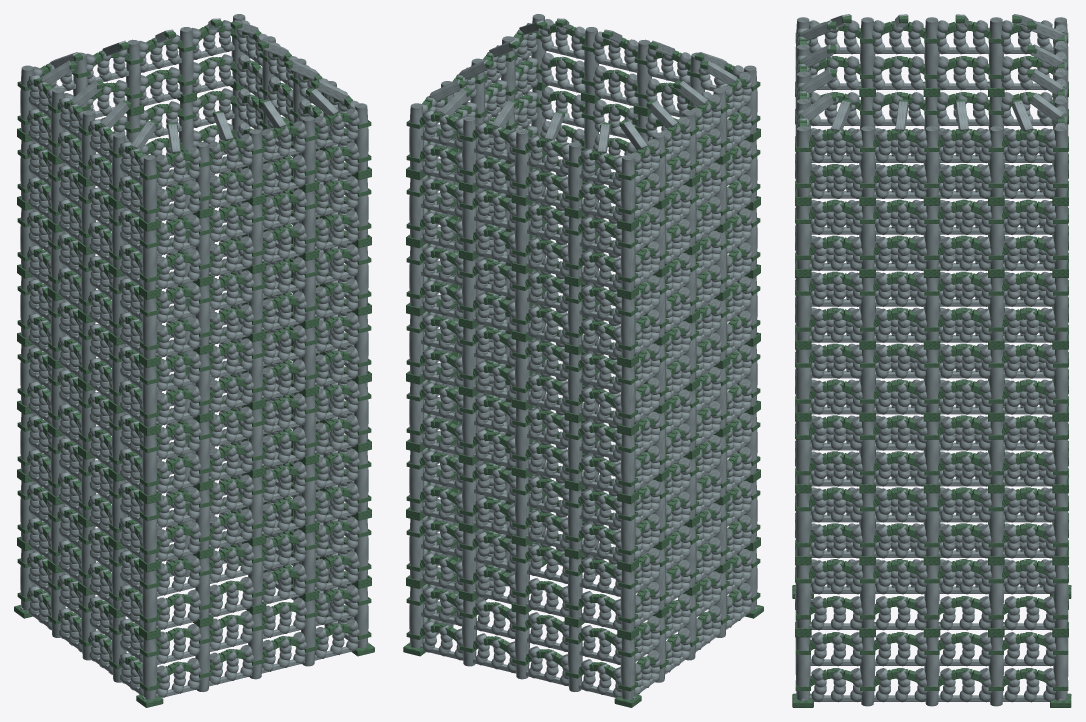
The picture shows the model from 3 angles, left to right: view 1: azimuth 30°, elevation 25°; view 2: azimuth 150°, elevation 25°; view 3: azimuth 270°, elevation 25°; orthographic projection. The views are drawn at different scales.
Visible parts, largest first — view 1: Tier 7 side 0 post 0, Tier 6 side 0 post 0, Tier 0 side 0 post 0, Tier 1 side 0 post 0, Tier 2 side 0 post 0, Tier 3 side 0 post 0, Tier 4 side 0 post 0, Tier 5 side 0 post 0, Tier 7 side 2 post 1, Tier 7 side 2 post 2, Tier 7 side 1 post 0, Tier 7 side 0 post 1 (+34 smaller); view 2: Tier 7 side 3 post 0, Tier 7 side 2 post 0, Tier 7 side 2 post 3, Tier 0 side 3 post 0, Tier 6 side 3 post 0, Tier 1 side 3 post 0, Tier 2 side 3 post 0, Tier 4 side 3 post 0, Tier 7 side 2 post 2, Tier 3 side 3 post 0, Tier 5 side 3 post 0, Tier 7 side 2 post 1 (+30 smaller); view 3: Tier 7 side 1 post 0, Tier 7 side 2 post 0, Tier 7 side 3 post 2, Tier 7 side 1 post 1, Tier 7 side 3 post 1, Tier 7 side 1 post 2, Tier 7 side 3 post 3, Tier 5 side 1 post 0, Tier 7 side 1 post 3, Tier 4 side 1 post 0, Tier 3 side 1 post 0, Tier 0 side 1 post 1 (+31 smaller).
Part boxes in pixels (left/top/right/bottom): Tier 7 side 0 post 0: left=142, top=155, right=157, bottom=222; Tier 6 side 0 post 0: left=142, top=229, right=157, bottom=291; Tier 0 side 0 post 0: left=142, top=638, right=157, bottom=699; Tier 1 side 0 post 0: left=142, top=570, right=157, bottom=631; Tier 2 side 0 post 0: left=142, top=502, right=157, bottom=563; Tier 3 side 0 post 0: left=142, top=434, right=157, bottom=495; Tier 4 side 0 post 0: left=142, top=366, right=157, bottom=427; Tier 5 side 0 post 0: left=142, top=297, right=157, bottom=359; Tier 7 side 2 post 1: left=178, top=27, right=193, bottom=94; Tier 7 side 2 post 2: left=126, top=39, right=140, bottom=107; Tier 7 side 1 post 0: left=353, top=103, right=368, bottom=171; Tier 7 side 0 post 1: left=195, top=142, right=210, bottom=209; Tier 7 side 3 post 0: left=620, top=155, right=635, bottom=222; Tier 7 side 2 post 0: left=409, top=103, right=424, bottom=171; Tier 7 side 2 post 3: left=567, top=142, right=582, bottom=209; Tier 0 side 3 post 0: left=620, top=638, right=635, bottom=699; Tier 6 side 3 post 0: left=620, top=229, right=635, bottom=291; Tier 1 side 3 post 0: left=620, top=570, right=635, bottom=631; Tier 2 side 3 post 0: left=620, top=502, right=635, bottom=563; Tier 4 side 3 post 0: left=620, top=366, right=635, bottom=427; Tier 7 side 2 post 2: left=515, top=129, right=529, bottom=197; Tier 3 side 3 post 0: left=620, top=434, right=635, bottom=495; Tier 5 side 3 post 0: left=620, top=298, right=635, bottom=359; Tier 7 side 2 post 1: left=462, top=116, right=476, bottom=184; Tier 7 side 1 post 0: left=795, top=126, right=810, bottom=196; Tier 7 side 2 post 0: left=1053, top=126, right=1068, bottom=196; Tier 7 side 3 post 2: left=924, top=17, right=939, bottom=87; Tier 7 side 1 post 1: left=860, top=126, right=875, bottom=196; Tier 7 side 3 post 1: left=988, top=17, right=1003, bottom=87; Tier 7 side 1 post 2: left=924, top=126, right=939, bottom=196; Tier 7 side 3 post 3: left=860, top=17, right=875, bottom=87; Tier 5 side 1 post 0: left=795, top=278, right=810, bottom=340; Tier 7 side 1 post 3: left=988, top=126, right=1003, bottom=196; Tier 4 side 1 post 0: left=795, top=349, right=810, bottom=412; Tier 3 side 1 post 0: left=795, top=421, right=810, bottom=484; Tier 0 side 1 post 1: left=860, top=637, right=875, bottom=706.
Size of the model in its own units: 1.95 by 4.56 by 1.95.
Materials: 2 (2 with a texture image).
